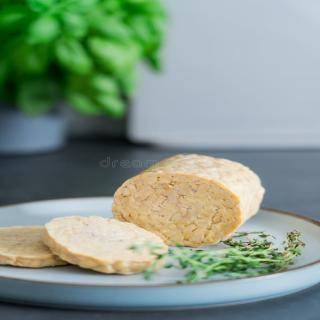Tempe: (42, 216, 170, 277), (1, 225, 70, 268)
